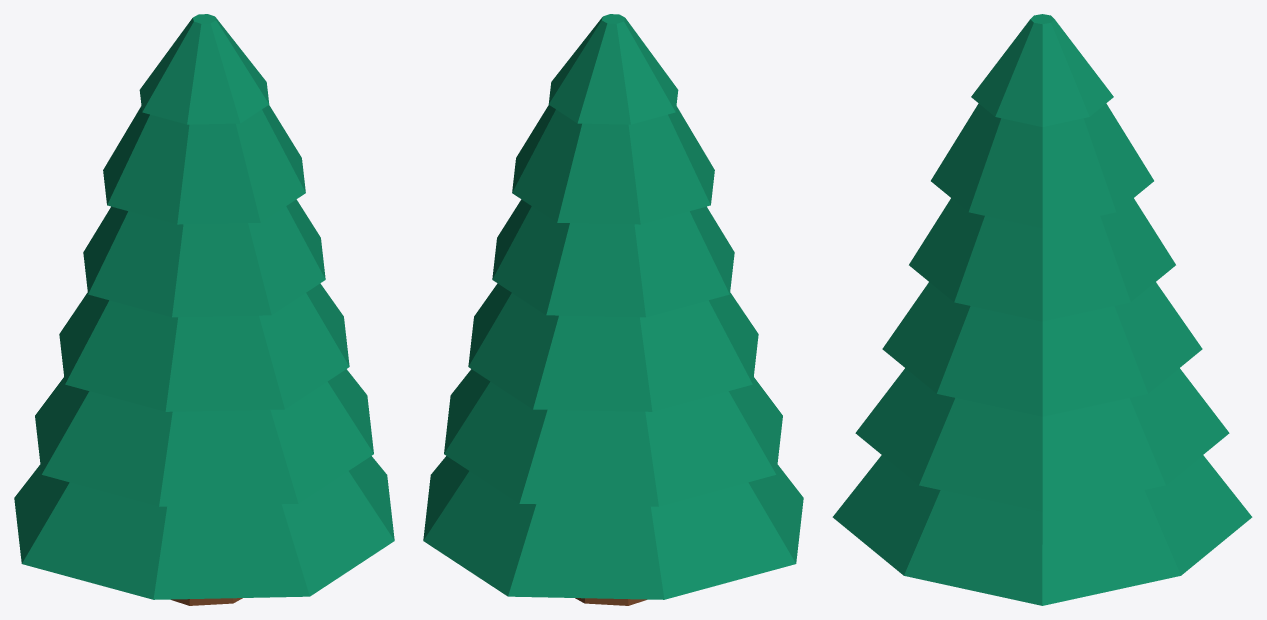
The model's file is Tree1, Mid.fbx.
3 renders of one model, left to right at view 1: azimuth 30°, elevation 25°; view 2: azimuth 150°, elevation 25°; view 3: azimuth 270°, elevation 25°, orthographic.
Parts seen in each view (by area): view 1: Pine Tree; view 2: Pine Tree; view 3: Pine Tree.
Boxes of the visible parts, box(x1,y1,x2,y2) form: Pine Tree: box(14, 14, 394, 605); Pine Tree: box(423, 14, 803, 605); Pine Tree: box(832, 14, 1252, 605).
Bounding box in the file's own units: 288 × 424 × 288.
